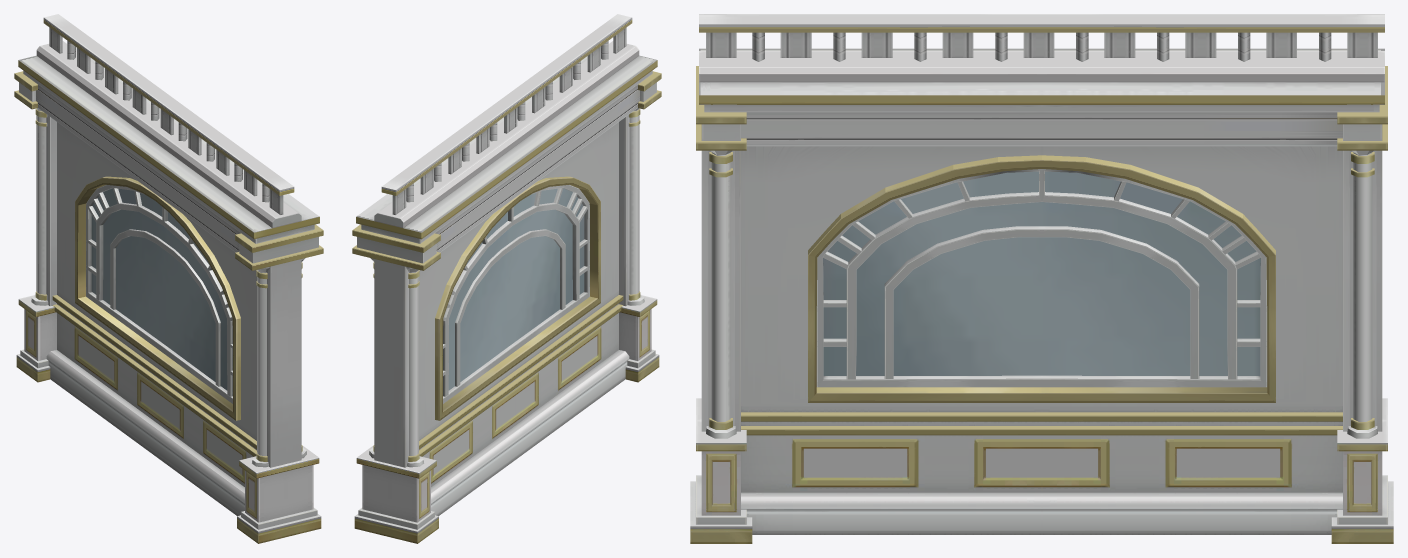
The model's file is my_teaparty_01_partition_01.glb.
3 views of the same model, side by side, from view 1: azimuth 30°, elevation 25°; view 2: azimuth 150°, elevation 25°; view 3: azimuth 270°, elevation 25° (orthographic). The views are drawn at different scales.
Parts seen in each view (by area): view 1: my_teaparty_01_partition_01; view 2: my_teaparty_01_partition_01; view 3: my_teaparty_01_partition_01.
Part boxes in pixels (box(x1,y1,x2,y2)): my_teaparty_01_partition_01: box(14, 14, 323, 543); my_teaparty_01_partition_01: box(352, 14, 661, 543); my_teaparty_01_partition_01: box(690, 14, 1393, 543).
Bounding box in the file's own units: 0.004 × 0.0186 × 0.0236.
2 materials, 2 textured.
